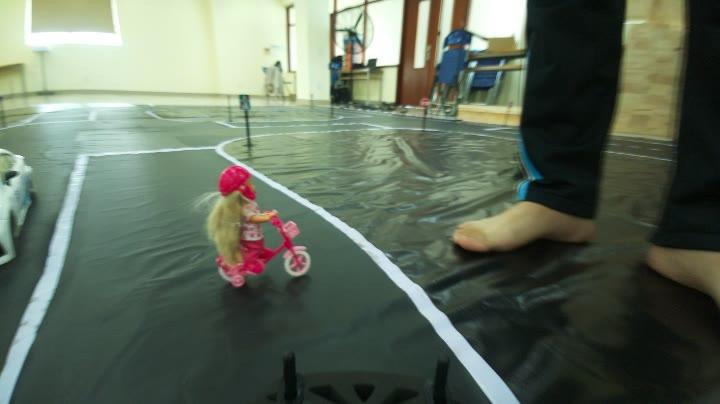pedestrian: (182, 160, 329, 283)
